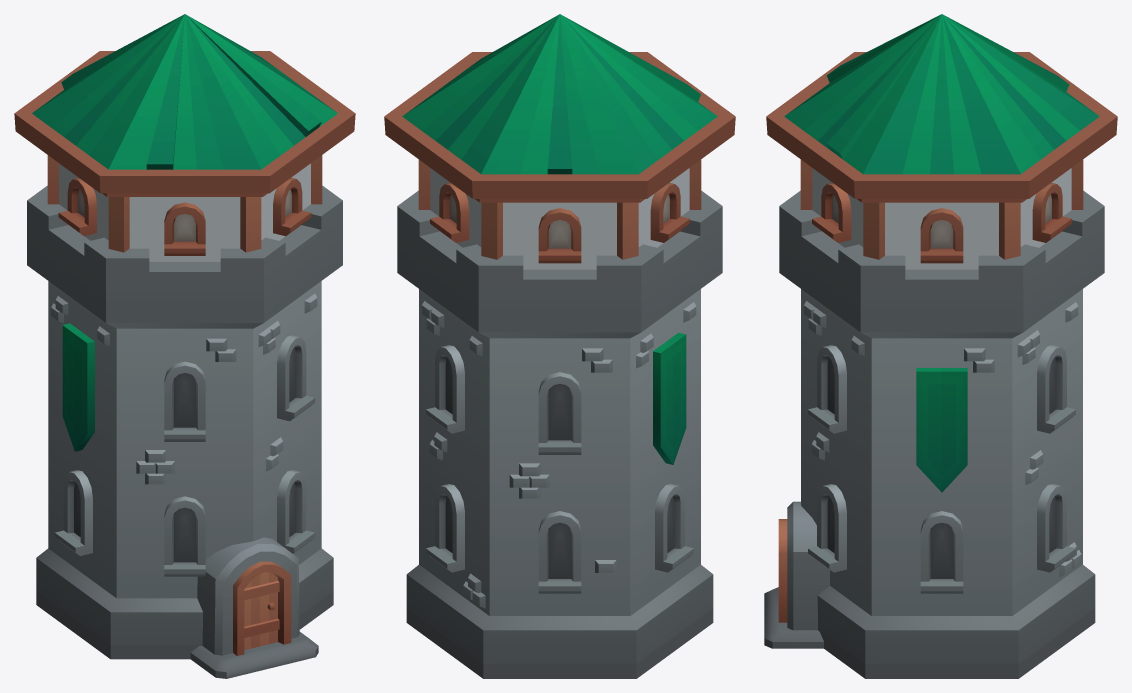
Rendered from building_tower_A_green.gltf.
The picture shows the model from 3 angles, left to right: view 1: azimuth 30°, elevation 25°; view 2: azimuth 150°, elevation 25°; view 3: azimuth 270°, elevation 25°; orthographic projection. The views are drawn at different scales.
Visible parts, largest first — view 1: building_tower_A_green, building_tower_A_top_green; view 2: building_tower_A_green, building_tower_A_top_green; view 3: building_tower_A_green, building_tower_A_top_green.
Boxes of the visible parts, <box> form: building_tower_A_green: <box>27,185,342,678</box>; building_tower_A_top_green: <box>14,14,355,261</box>; building_tower_A_green: <box>397,190,722,678</box>; building_tower_A_top_green: <box>384,14,735,269</box>; building_tower_A_green: <box>764,190,1104,678</box>; building_tower_A_top_green: <box>766,14,1117,269</box>.
Size of the model in its own units: 0.9933 by 2.19 by 1.15.
1 material, 1 textured.
